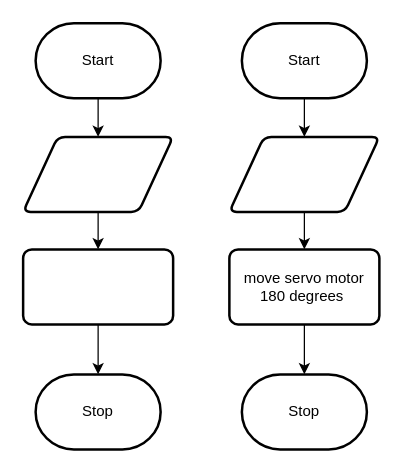
This 401x471 diagram has some shape labels left out. The centre of each missing label's shape, as x and y in pixels:
move servo motor 0 degrees: point (97, 286)
press button A: point (97, 173)
press button B: point (304, 173)
